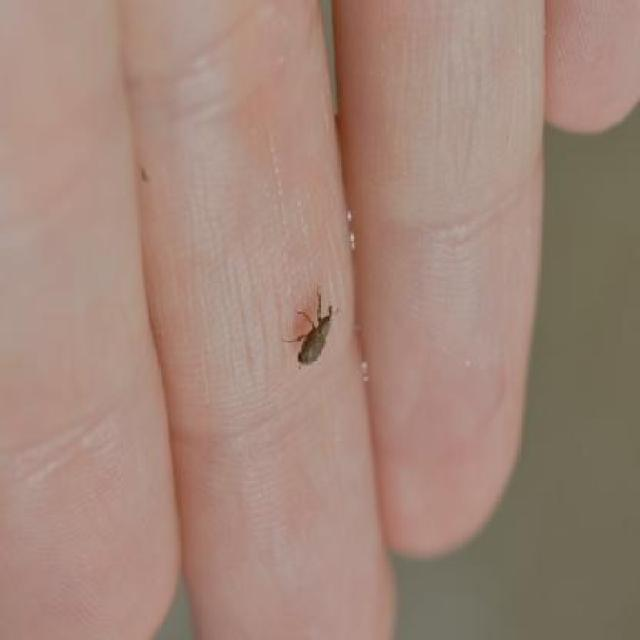rice-bug: (292, 293, 336, 372)
